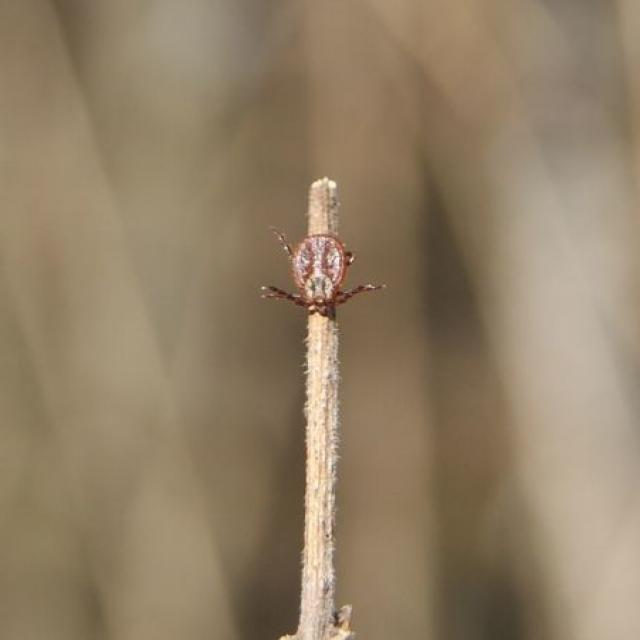Dermacentor Reticulatus-F: (261, 228, 377, 320)
